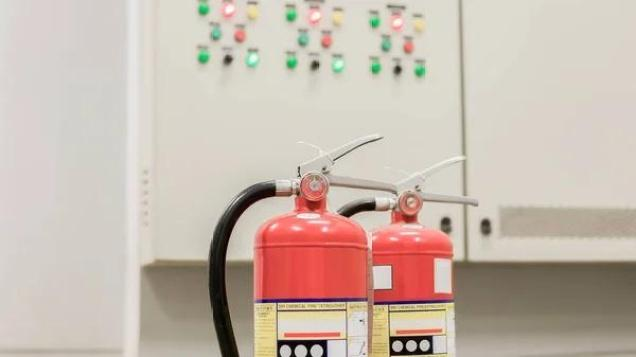APAR: (252, 134, 370, 356), (370, 154, 475, 356)
